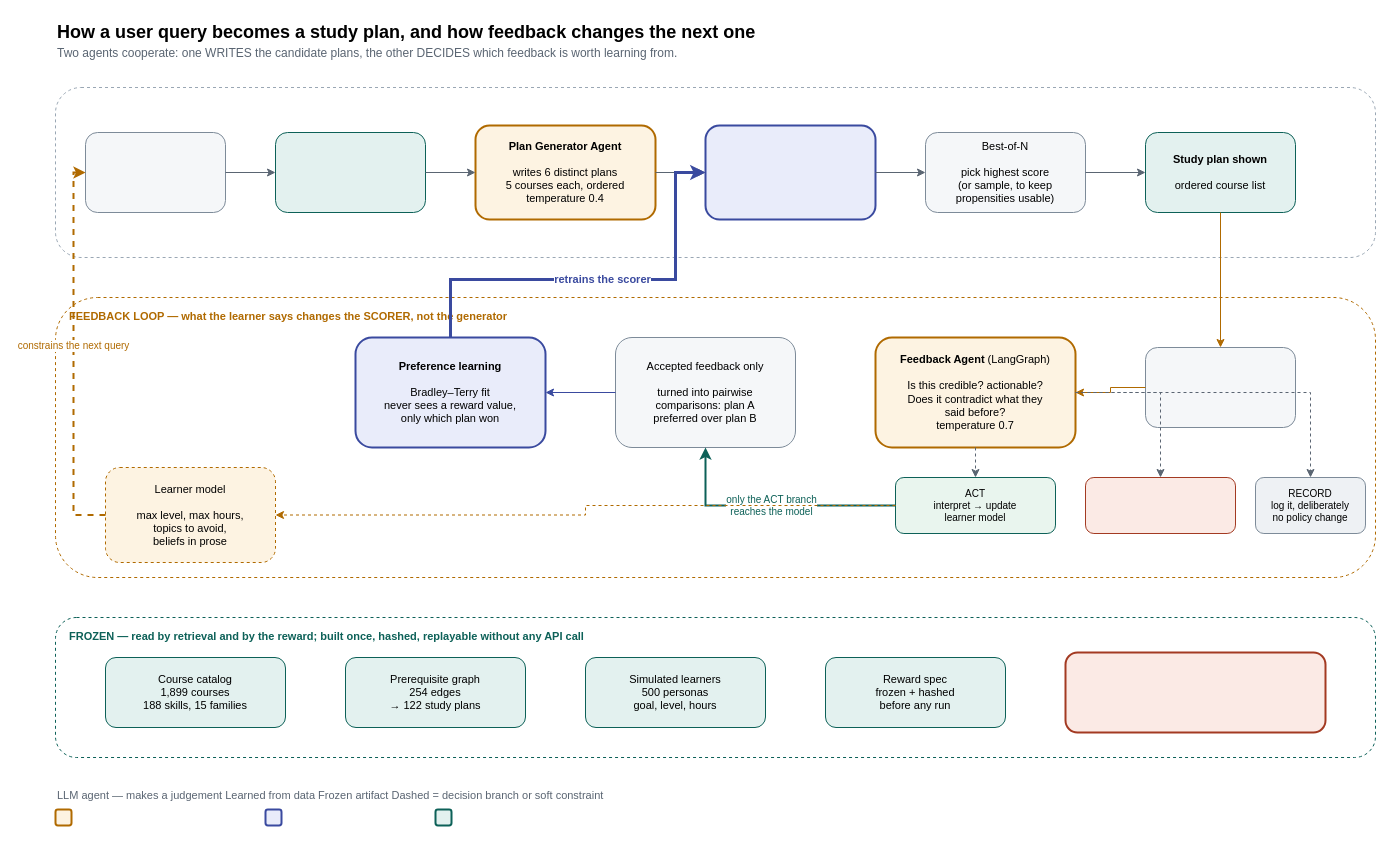
The diagram is 1393 pixels wide and 843 high, and some of its shapes have lost their labels. Here are the shapes that lost their labels. From the top down, the box of each, then its label:
(84, 132, 226, 212): User query goal, level, hours per week
(274, 132, 426, 212): Retrieval embed query, take top 25 of 1,899
(54, 86, 1376, 258): PER QUERY — runs every time the learner asks for a plan
(704, 124, 876, 220): Reward Model scores all 6 learned from feedback (6 features)
(1144, 346, 1296, 428): Learner reacts thumbs up / down + a reason in words
(1084, 476, 1236, 534): CLARIFY ask one question, change nothing yet
(1064, 651, 1326, 733): Firewall the recommender never reads the prerequisite graph or the reward spec
